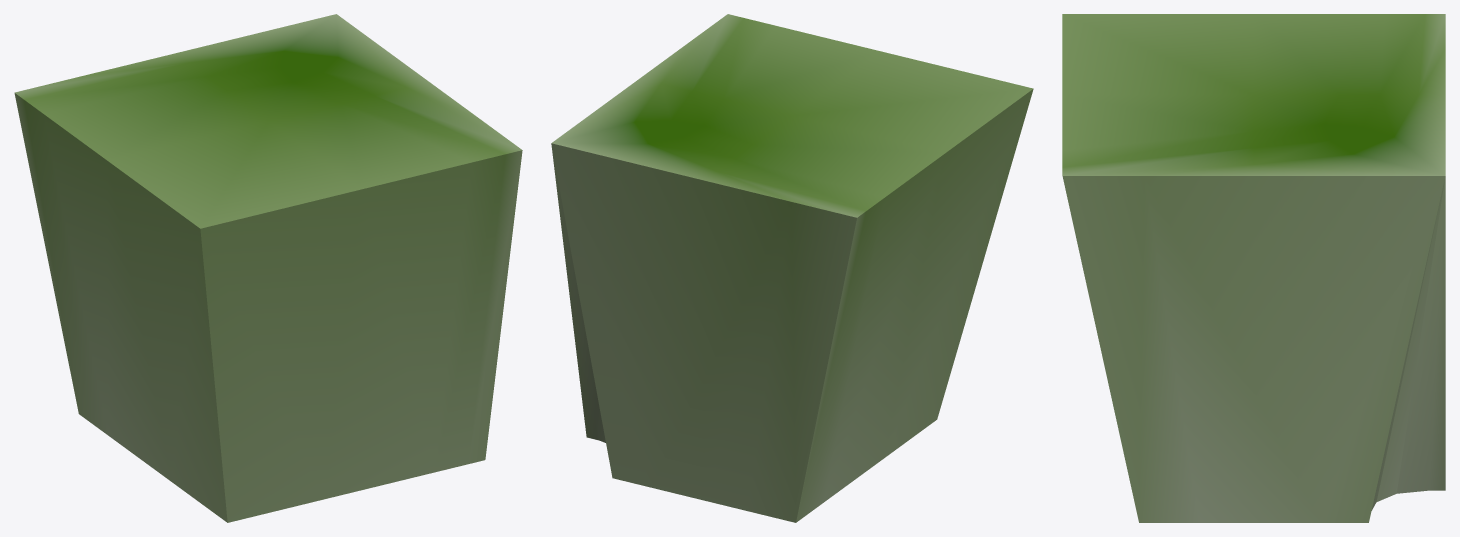
Rendered from T1DirL.fbx.
3 renders of one model, left to right at view 1: azimuth 30°, elevation 25°; view 2: azimuth 150°, elevation 25°; view 3: azimuth 270°, elevation 25°, orthographic. The views are drawn at different scales.
Visible parts, largest first — view 1: 3, 1, 4, 2; view 2: 4, 2, 3, 1; view 3: 2, 1, 3, 4.
Boxes of the visible parts, box(x1,y1,x2,y2) form: 3: box(107, 121, 361, 522); 1: box(269, 82, 522, 499); 4: box(14, 53, 267, 481); 2: box(176, 14, 428, 121); 4: box(704, 116, 945, 522); 2: box(551, 78, 791, 500); 3: box(793, 51, 1033, 457); 1: box(640, 14, 880, 115); 2: box(1254, 95, 1445, 522); 1: box(1062, 95, 1253, 522); 3: box(1062, 14, 1253, 94); 4: box(1254, 14, 1445, 94).
Bounding box in the file's own units: 200 × 200 × 200.
